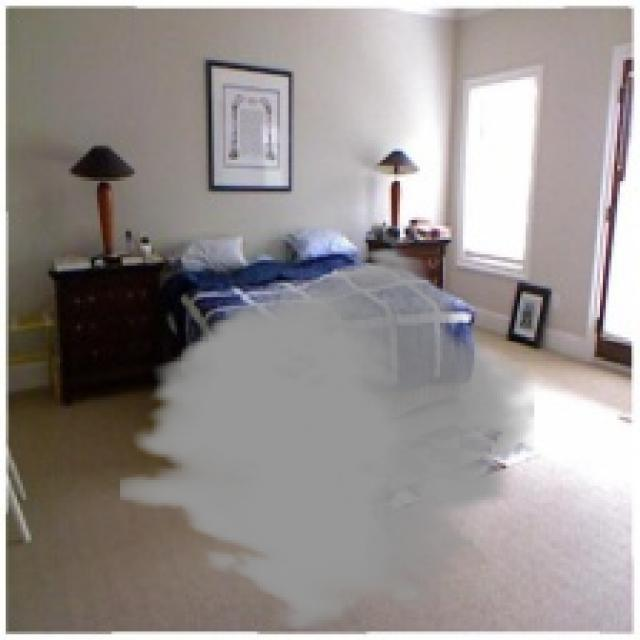Smoke: (120, 246, 534, 632)
